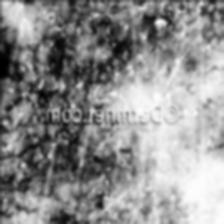Potentially Malignant Skin Tumors: (0, 126, 224, 224), (17, 0, 224, 100)
